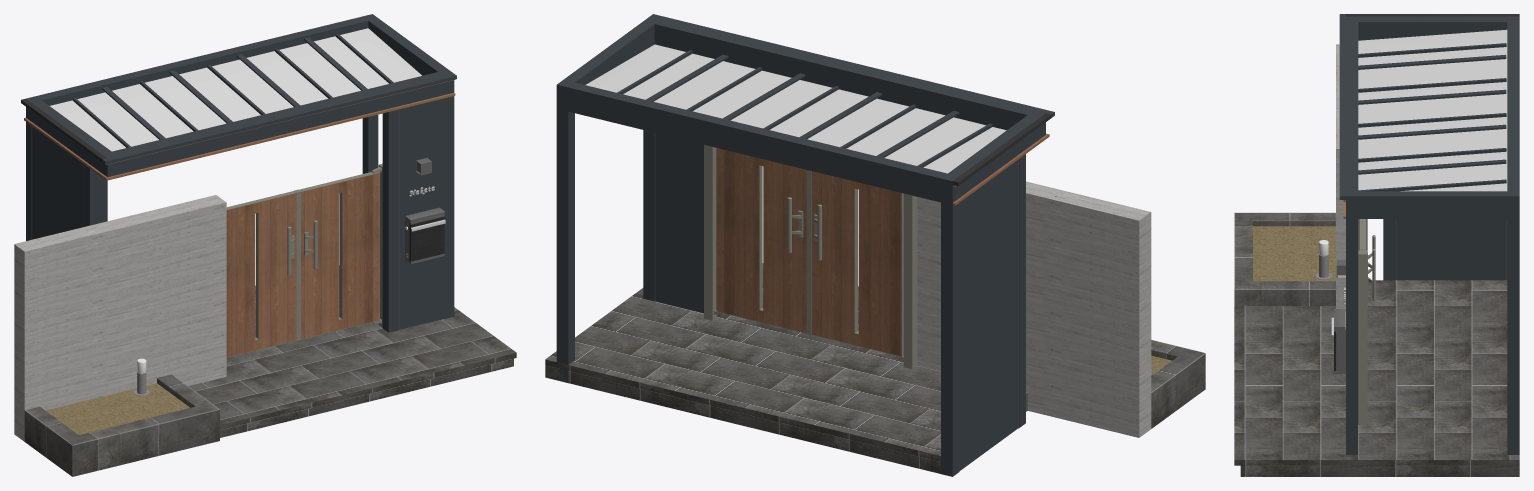
The model's file is HY22_matdarkgrey.fbx.
3 views of the same model, side by side, from view 1: azimuth 30°, elevation 25°; view 2: azimuth 150°, elevation 25°; view 3: azimuth 270°, elevation 25° (orthographic). The views are drawn at different scales.
Parts seen in each view (by area): view 1: HY22_mat dark gray; view 2: HY22_mat dark gray; view 3: HY22_mat dark gray.
Part boxes in pixels (bbox=[...]): HY22_mat dark gray: bbox=[14, 14, 516, 476]; HY22_mat dark gray: bbox=[545, 14, 1205, 476]; HY22_mat dark gray: bbox=[1234, 14, 1519, 476].
Bounding box in the file's own units: 440 × 245 × 230.
Materials: 25 (12 with a texture image).
